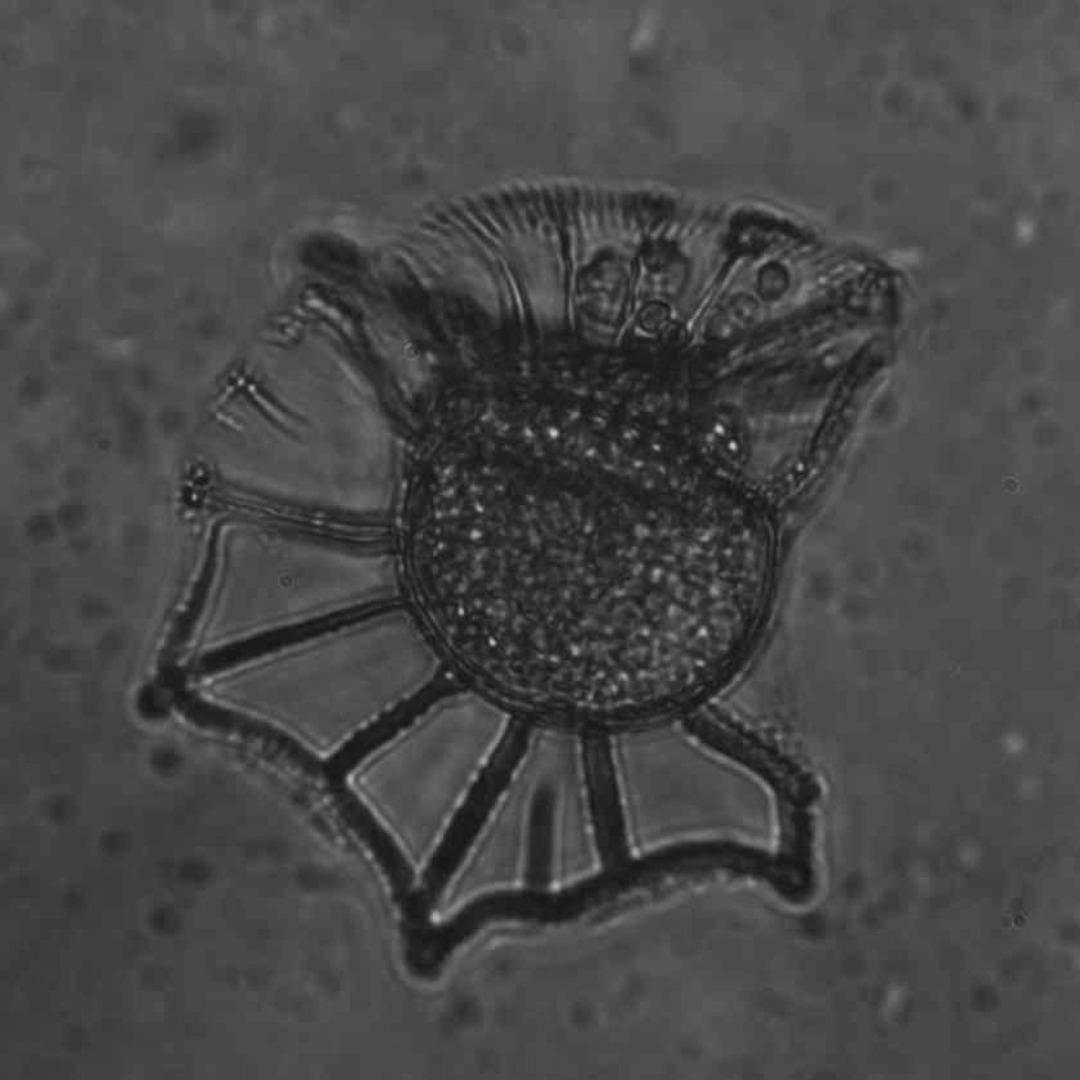ornithocercus_thumii: (133, 184, 901, 983)
